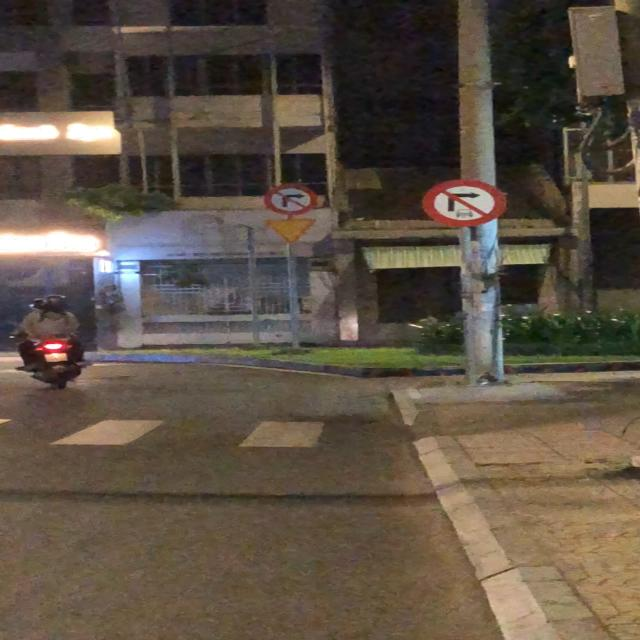Bien bao cam re phai: (262, 183, 322, 216)
Bien bao cam xe o to re phai: (420, 178, 508, 228)
Bien bao giao nhau voi duong uu tien: (261, 218, 320, 245)
